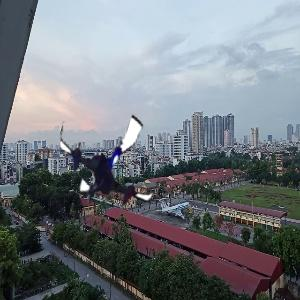drone: (52, 101, 169, 218)
